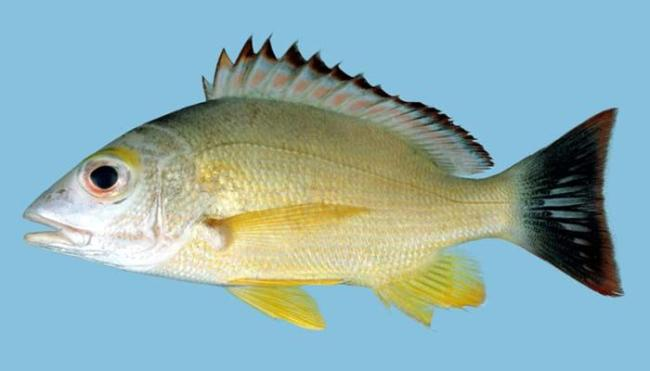fish: (22, 33, 626, 331)
